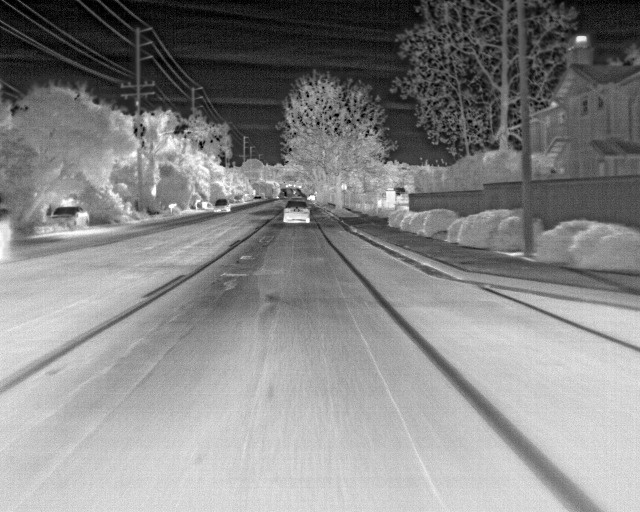vehicle: (51, 206, 90, 232), (283, 199, 310, 225), (215, 198, 230, 215)
